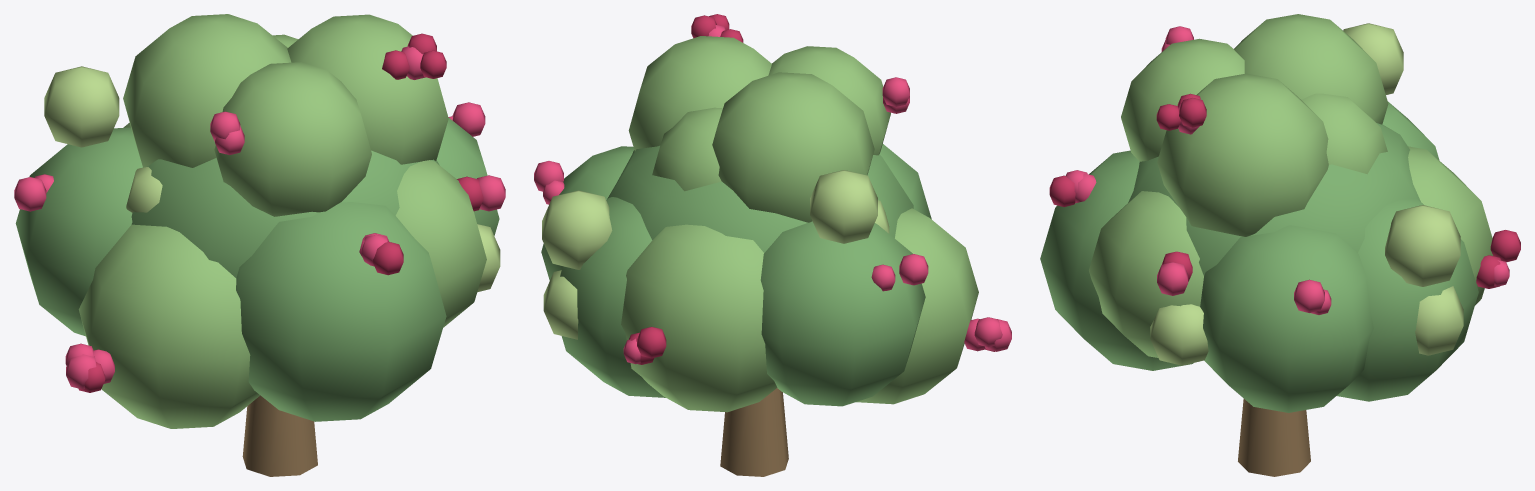
The model's file is plant-berry-bush.glb.
3 renders of one model, left to right at view 1: azimuth 30°, elevation 25°; view 2: azimuth 150°, elevation 25°; view 3: azimuth 270°, elevation 25°, orthographic. The views are drawn at different scales.
Parts seen in each view (by area): view 1: Crown, Stem; view 2: Crown, Stem; view 3: Crown, Stem.
Part boxes in pixels (box(x1,y1,x2,y2)): Crown: box(14, 14, 505, 428); Stem: box(242, 395, 317, 476); Crown: box(534, 14, 1011, 412); Stem: box(720, 388, 788, 476); Crown: box(1040, 14, 1520, 412); Stem: box(1238, 399, 1310, 476).
Bounding box in the file's own units: 0.3632 × 0.3254 × 0.3411.
